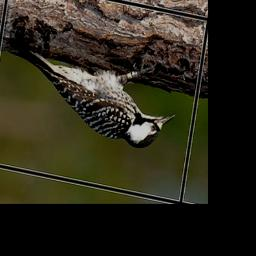Woodpecker: (0, 26, 183, 155)
